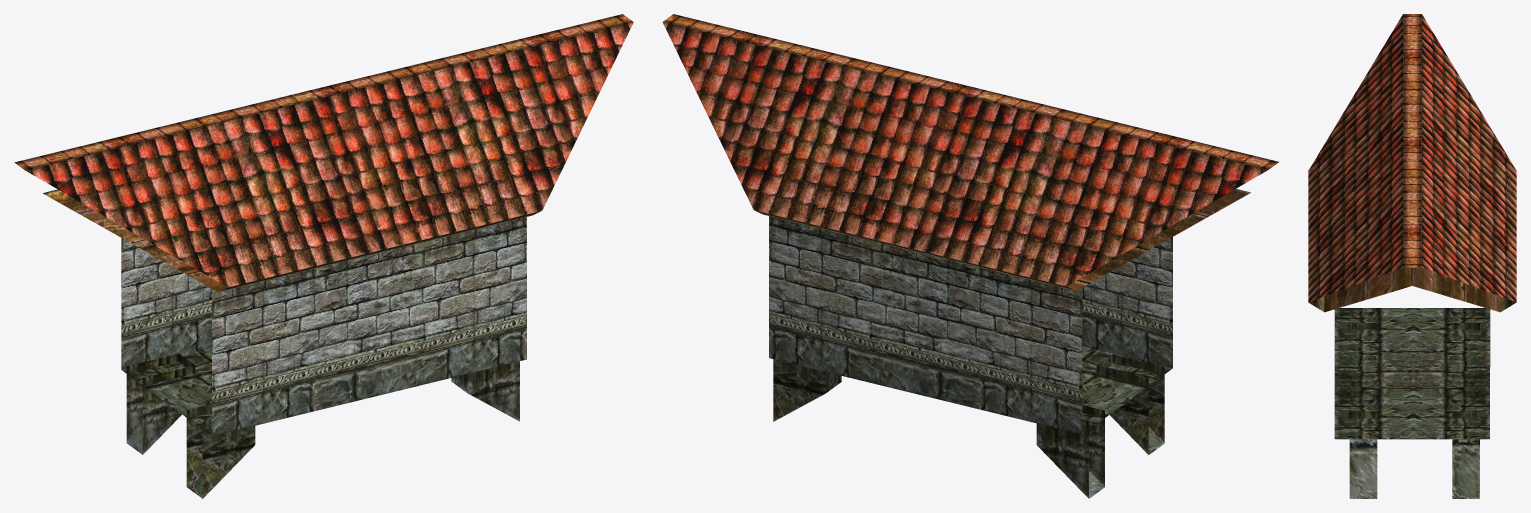
3 renders of one model, left to right at view 1: azimuth 30°, elevation 25°; view 2: azimuth 150°, elevation 25°; view 3: azimuth 270°, elevation 25°, orthographic. The views are drawn at different scales.
Parts seen in each view (by area): view 1: cc11-col; view 2: cc11-col; view 3: cc11-col.
Boxes of the visible parts, left/top/right/bottom form: cc11-col: left=14, top=14, right=633, bottom=498; cc11-col: left=662, top=14, right=1278, bottom=498; cc11-col: left=1308, top=14, right=1516, bottom=498.
Bounding box in the file's own units: 11.6 × 6.22 × 4.03.
5 materials, 5 textured.
